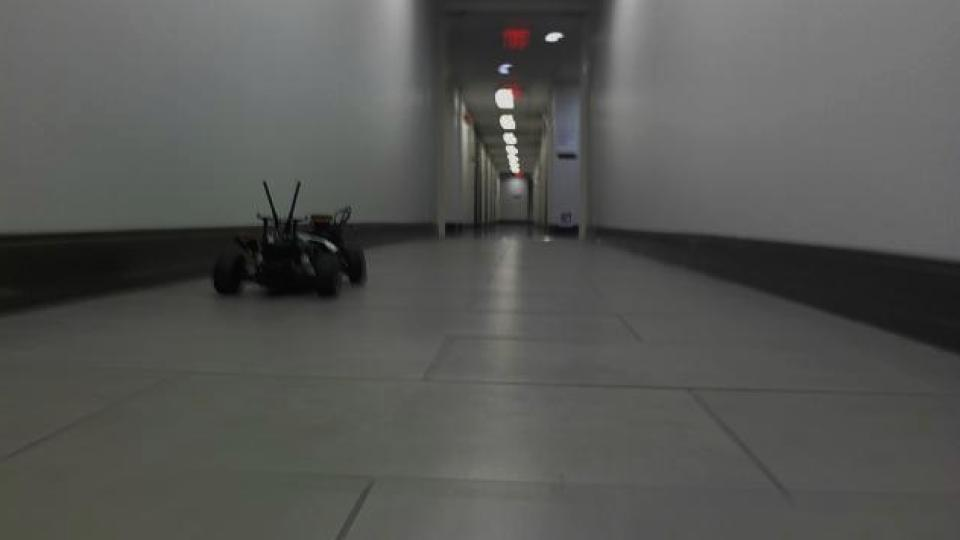car: (208, 177, 369, 302)
